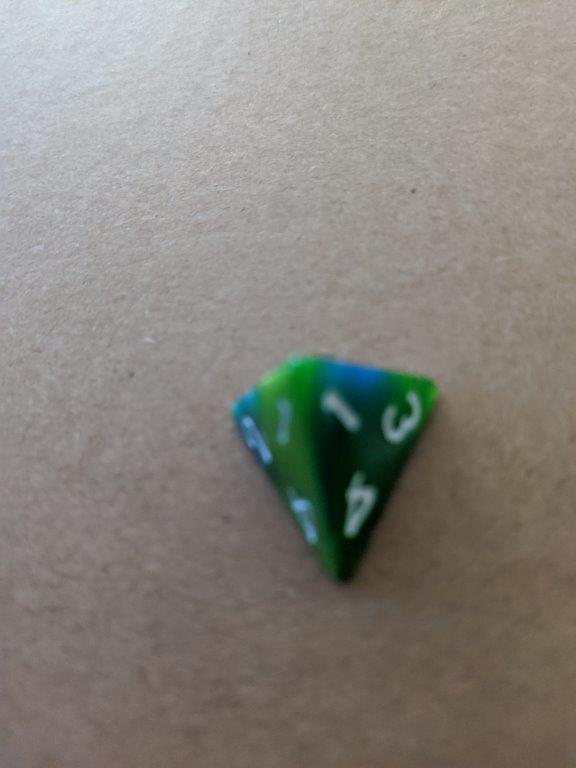d4-1: (224, 345, 449, 588)
